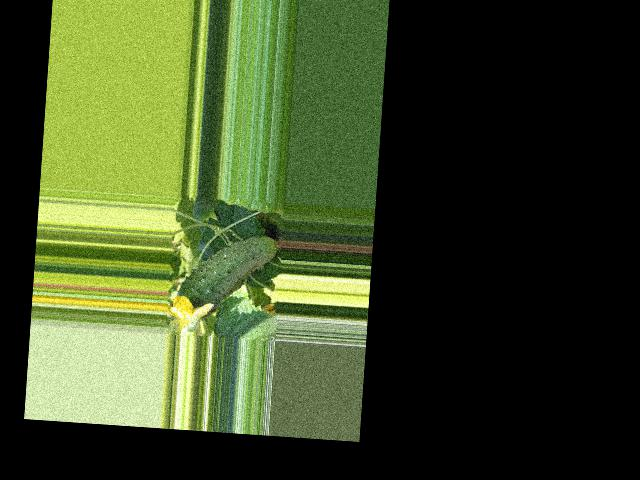cucumber: (175, 229, 283, 324)
